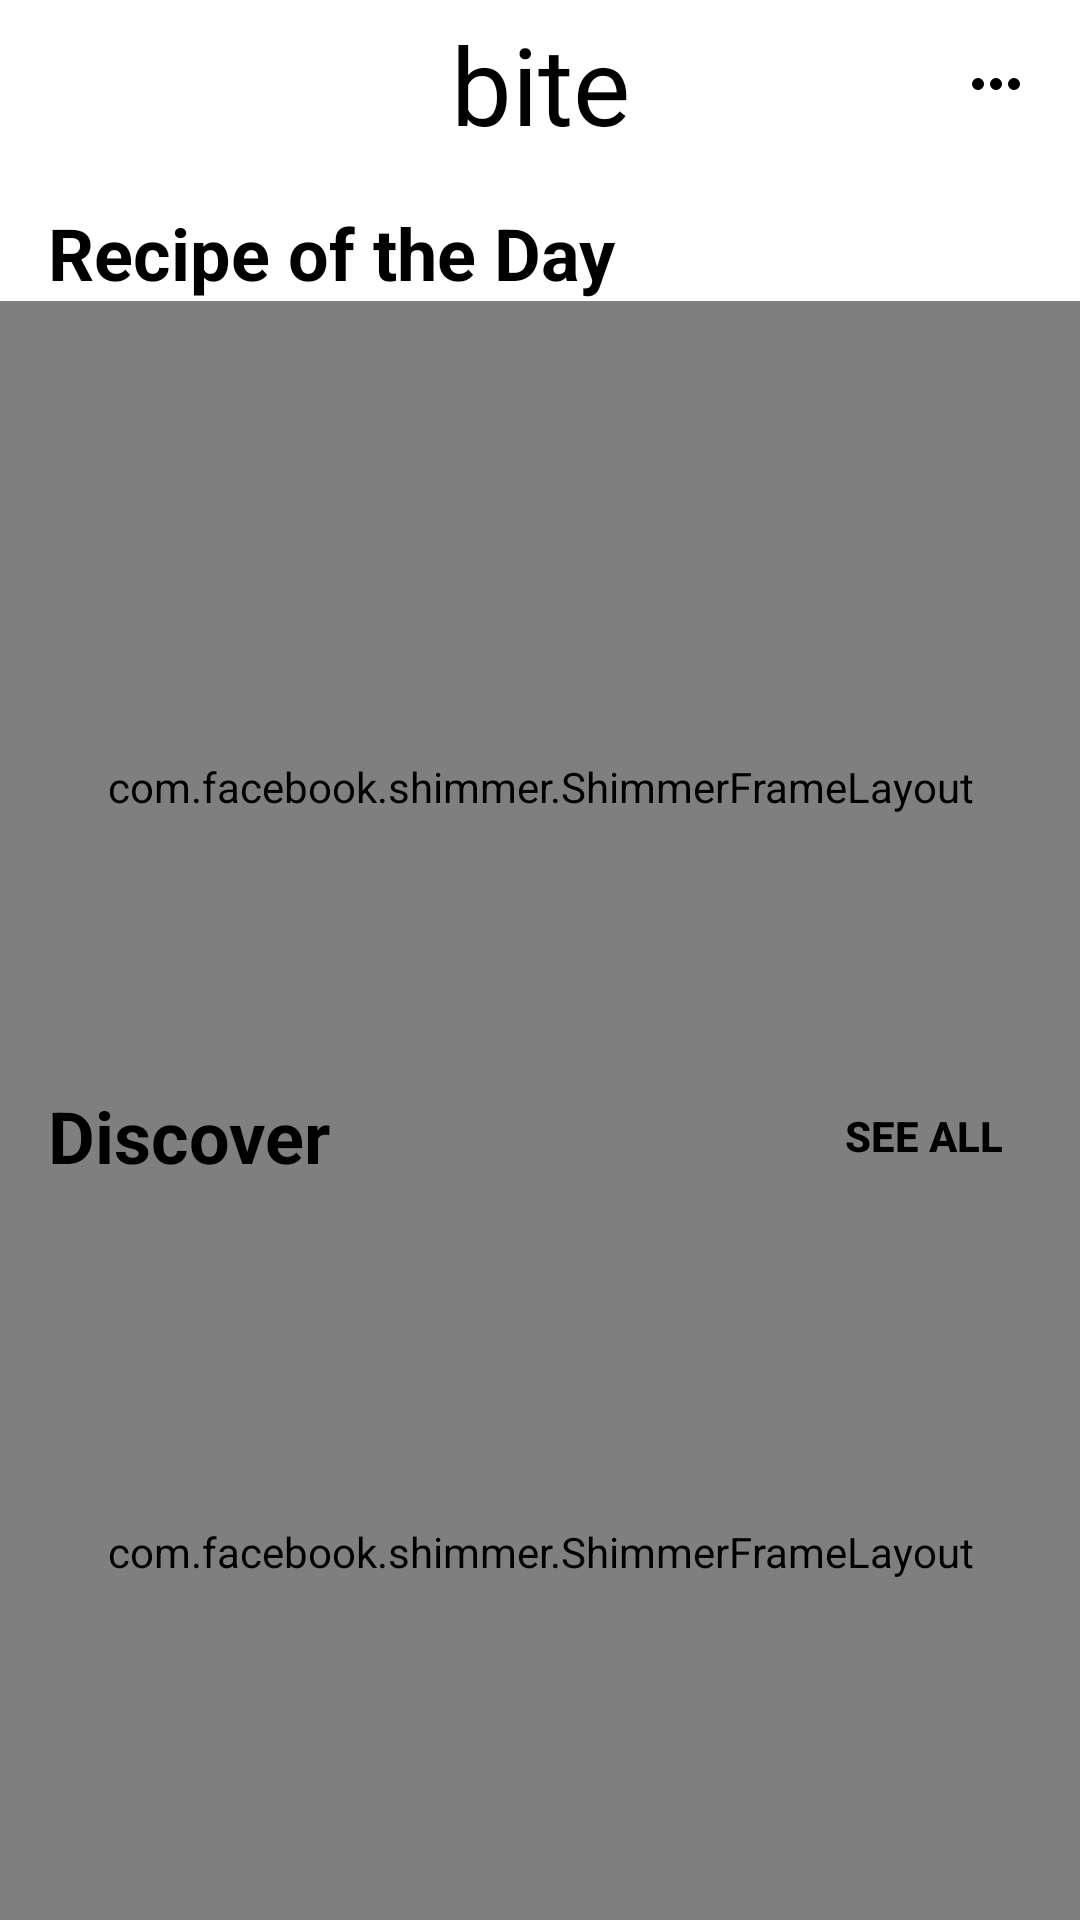

Where to tap for icons on this 1080px×1920px app screen, as point (x, y):
ellipsis: point (996, 84)
